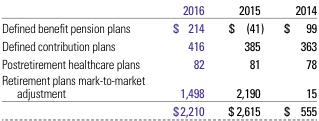table: (0, 1, 316, 118)
table column: (0, 1, 158, 118), (215, 1, 273, 118), (158, 1, 215, 118), (273, 1, 316, 118)
table column header: (0, 1, 316, 17)
table row: (0, 71, 316, 101), (0, 17, 316, 36), (0, 36, 316, 54), (0, 54, 316, 71), (0, 101, 316, 118), (0, 1, 316, 17)
